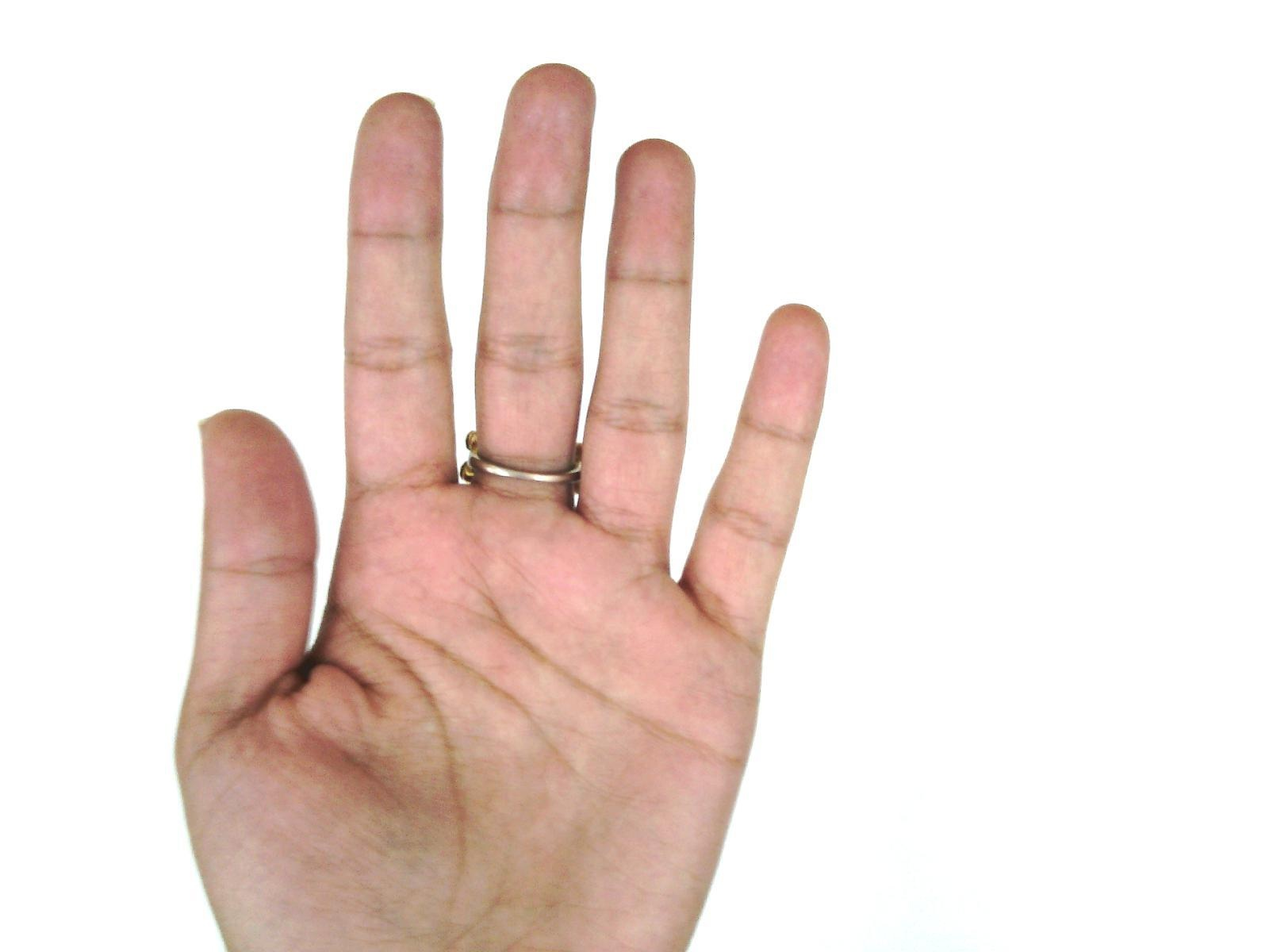open_palm: (172, 62, 834, 951)
